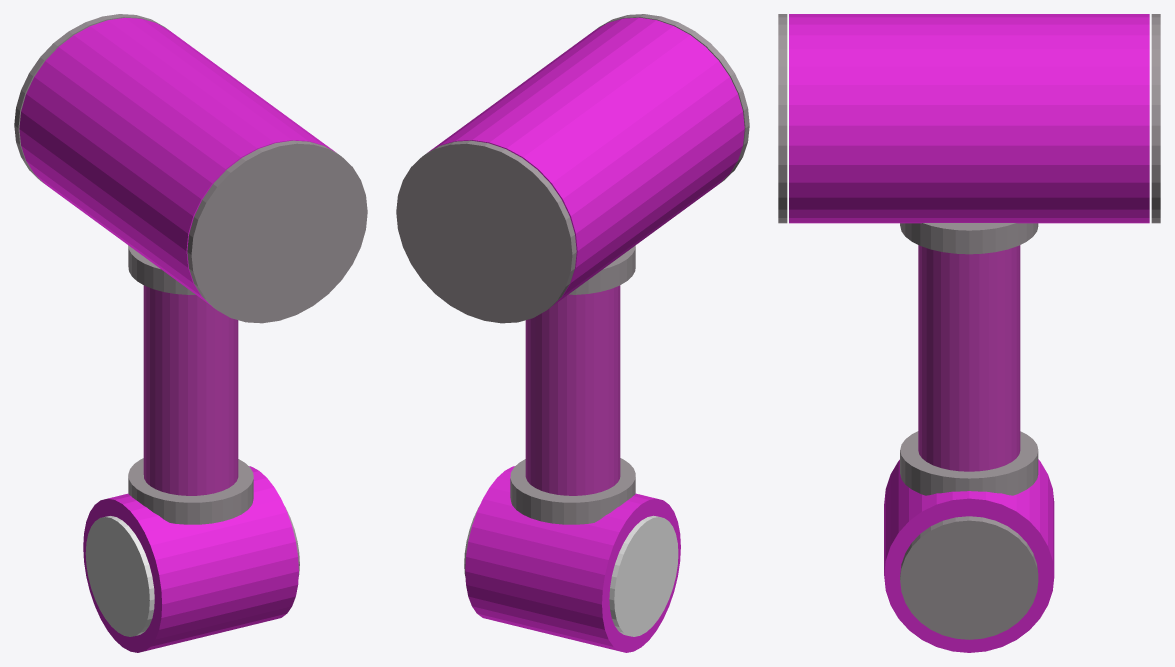
File: spinning hammer.fbx
The picture shows the model from 3 angles, left to right: view 1: azimuth 30°, elevation 25°; view 2: azimuth 150°, elevation 25°; view 3: azimuth 270°, elevation 25°; orthographic projection. The views are drawn at different scales.
Visible parts, largest first — view 1: Cylinder.001, Cylinder.003, Cylinder.006, Cylinder, Cylinder.008, Cylinder.005, Cylinder.004, Cylinder.002; view 2: Cylinder.001, Cylinder.004, Cylinder.006, Cylinder, Cylinder.008, Cylinder.005, Cylinder.003, Cylinder.002; view 3: Cylinder.001, Cylinder, Cylinder.007, Cylinder.006, Cylinder.005, Cylinder.002, Cylinder.004, Cylinder.003.
Boxes of the visible parts, <box> form: Cylinder.001: <box>19,17,336,306</box>; Cylinder.003: <box>187,140,367,323</box>; Cylinder.006: <box>83,466,298,652</box>; Cylinder: <box>143,285,238,495</box>; Cylinder.008: <box>85,516,154,636</box>; Cylinder.005: <box>128,458,253,524</box>; Cylinder.004: <box>14,14,168,183</box>; Cylinder.002: <box>128,245,195,294</box>; Cylinder.001: <box>427,17,744,306</box>; Cylinder.004: <box>396,140,576,323</box>; Cylinder.006: <box>465,466,680,652</box>; Cylinder: <box>525,285,620,495</box>; Cylinder.008: <box>609,515,678,636</box>; Cylinder.005: <box>510,458,635,524</box>; Cylinder.003: <box>595,14,749,182</box>; Cylinder.002: <box>569,245,635,294</box>; Cylinder.001: <box>789,14,1149,223</box>; Cylinder: <box>918,245,1020,471</box>; Cylinder.007: <box>900,516,1038,639</box>; Cylinder.006: <box>884,459,1054,652</box>; Cylinder.005: <box>900,431,1038,495</box>; Cylinder.002: <box>900,223,1038,254</box>; Cylinder.004: <box>1151,14,1160,223</box>; Cylinder.003: <box>778,14,787,223</box>.
Size of the model in its own units: 258 by 768 by 449.
